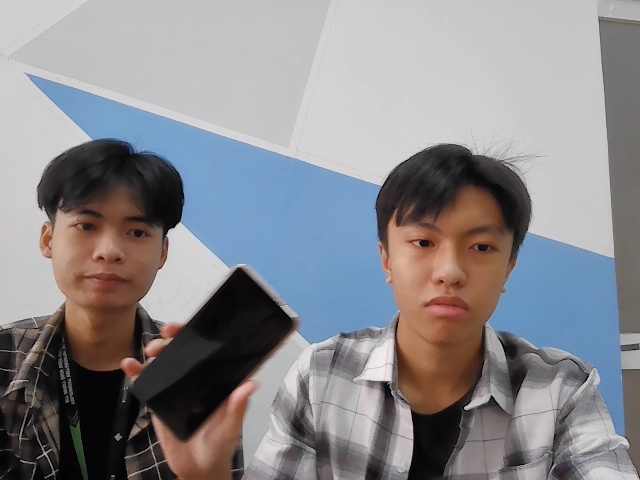human: (376, 146, 534, 344), (42, 138, 185, 311)
phone: (131, 265, 301, 441)
